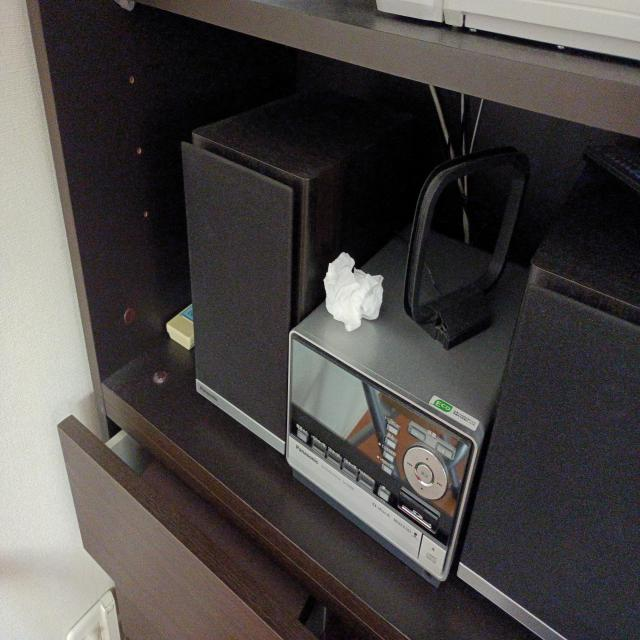衛生紙: (320, 248, 388, 334)
